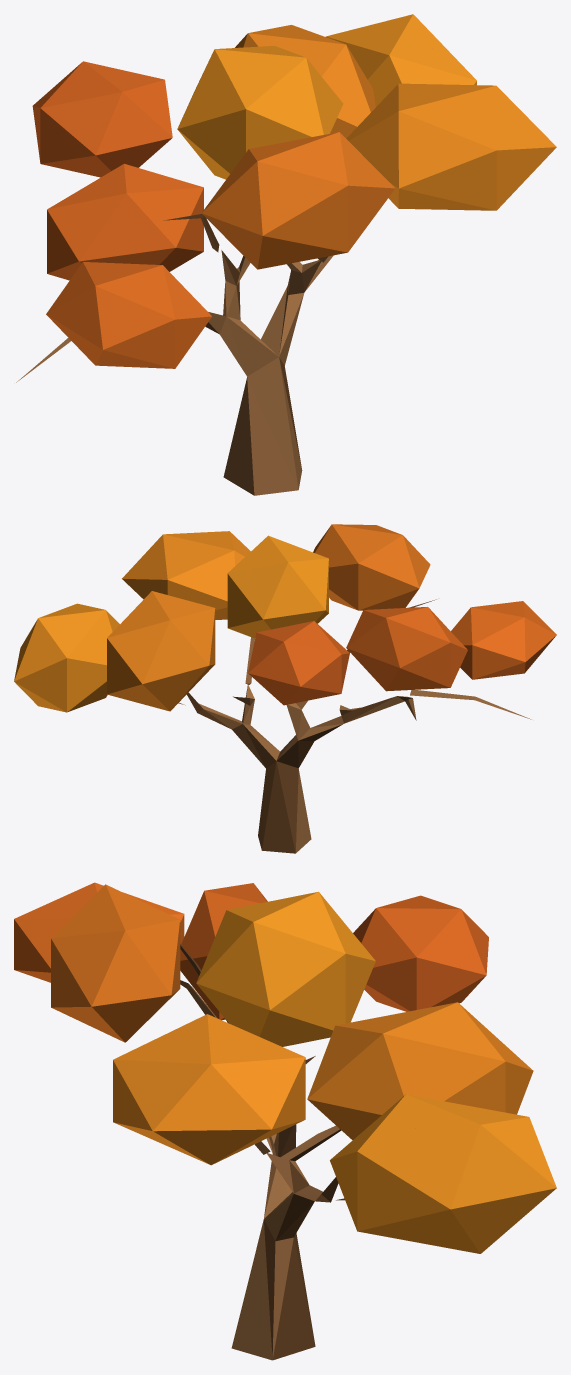
The model's file is acacia_autumn_far.glb.
3 renders of one model, top to bottom at view 1: azimuth 30°, elevation 25°; view 2: azimuth 150°, elevation 25°; view 3: azimuth 270°, elevation 25°, orthographic. The views are drawn at different scales.
Visible parts, largest first — view 1: acacia_autumn_far; view 2: acacia_autumn_far; view 3: acacia_autumn_far.
Part boxes in pixels (x1,y1,x2,y2): acacia_autumn_far: (16,14,556,495); acacia_autumn_far: (14,524,556,853); acacia_autumn_far: (14,882,556,1360).
Bounding box in the file's own units: 10.48 × 7.11 × 8.03.
